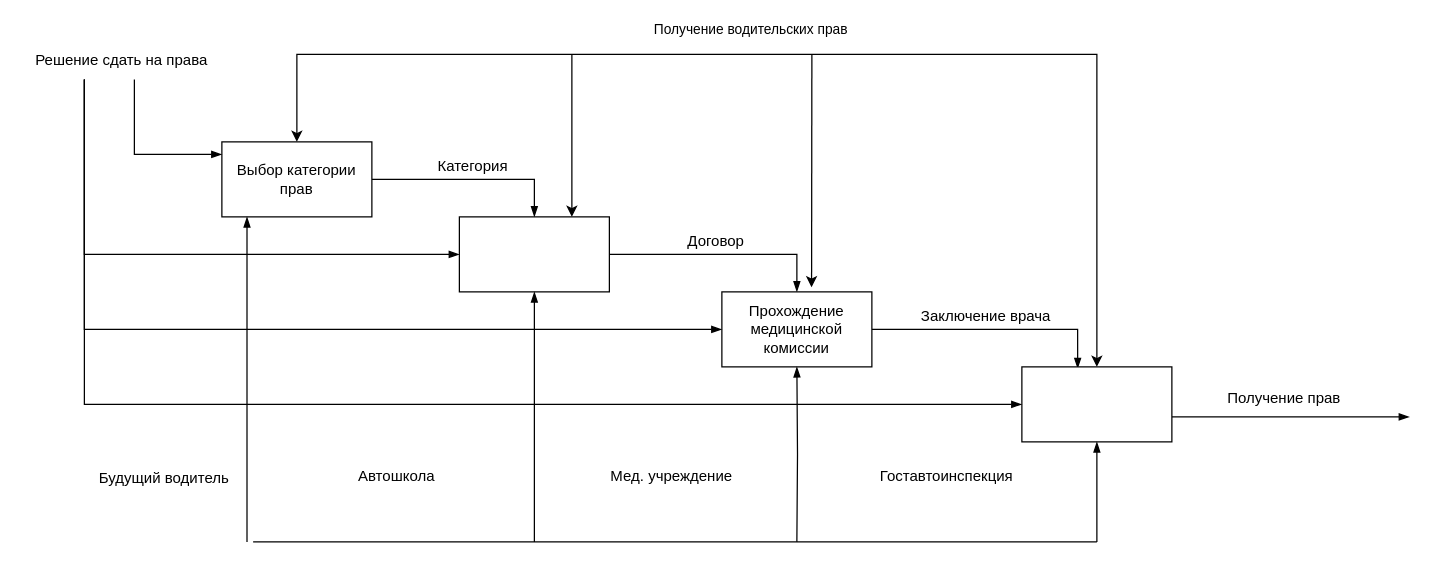
Image size: 1441x574. Some labels were removed from this diagram. The centre of each missing label's shape, as x and y in pixels:
"Заключение договора" goes at (533,254).
"Сдача экзамена" goes at (1096,404).
